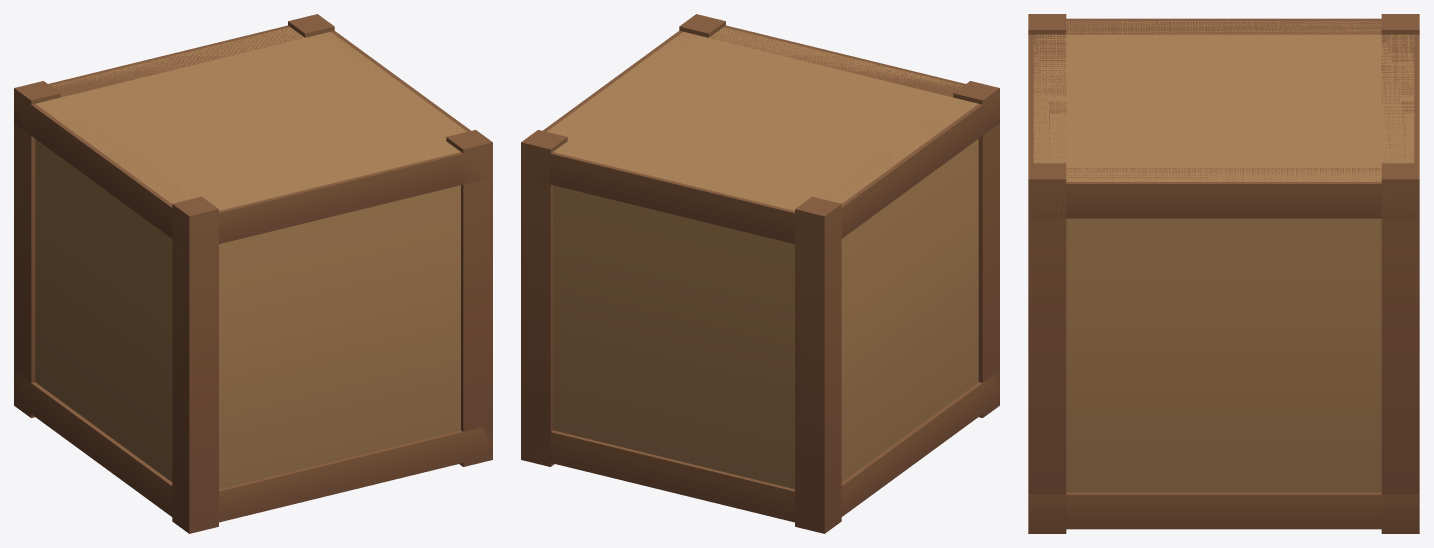
Rendered from crate.glb.
3 views of the same model, side by side, from view 1: azimuth 30°, elevation 25°; view 2: azimuth 150°, elevation 25°; view 3: azimuth 270°, elevation 25° (orthographic). The views are drawn at different scales.
Parts seen in each view (by area): view 1: crate; view 2: crate; view 3: crate.
Boxes of the visible parts, <box> form: crate: <box>14,14,492,533</box>; crate: <box>521,14,999,533</box>; crate: <box>1028,14,1419,533</box>.
Bounding box in the file's own units: 2.26 × 2.26 × 2.26.
1 material, 1 textured.
